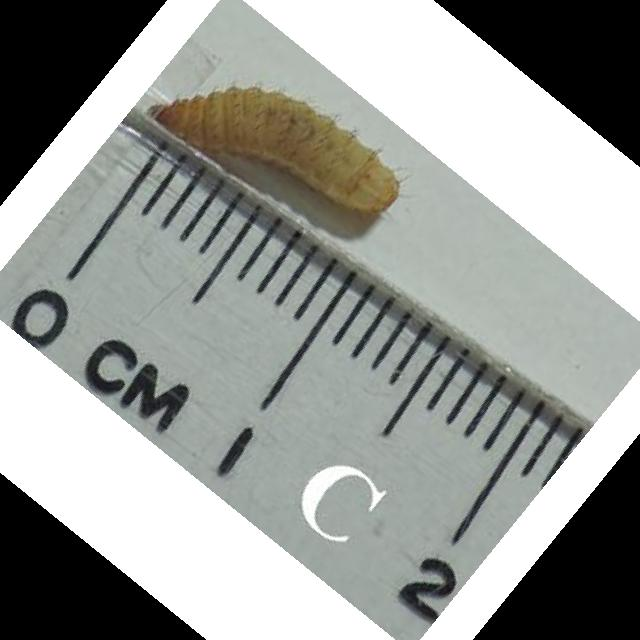Maggot: (158, 86, 401, 216)
